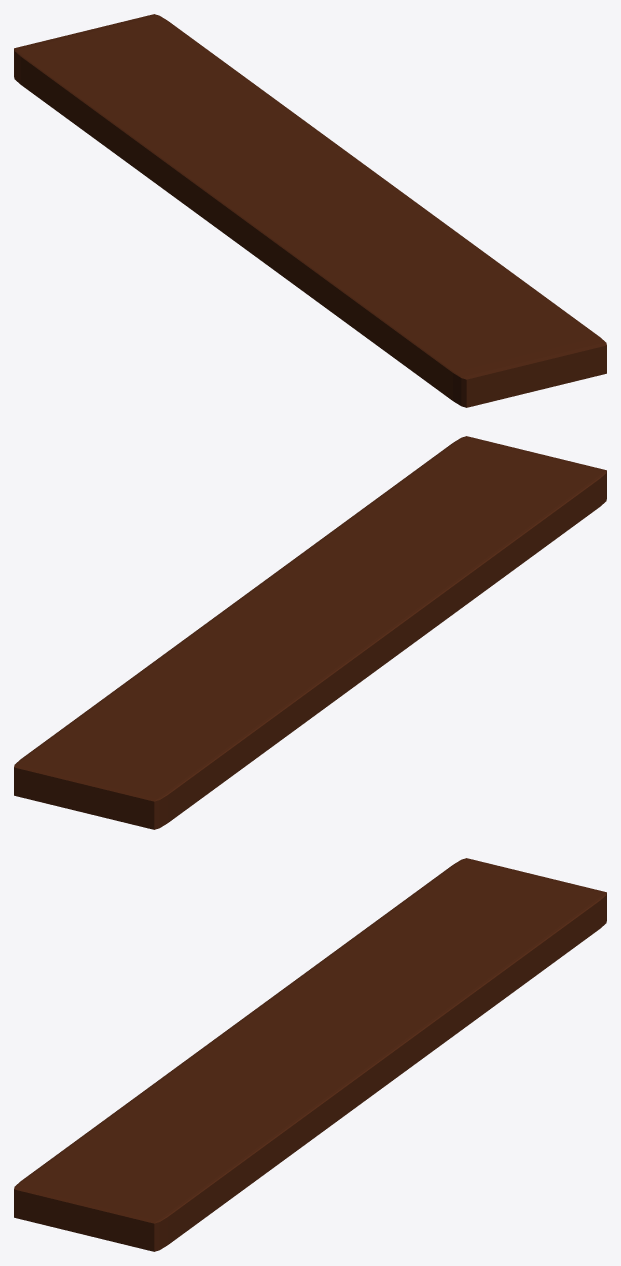
Rendered from Regal.fbx.
3 renders of one model, top to bottom at view 1: azimuth 30°, elevation 25°; view 2: azimuth 150°, elevation 25°; view 3: azimuth 330°, elevation 25°, orthographic.
Visible parts, largest first — view 1: Regal; view 2: Regal; view 3: Regal.
Part boxes in pixels (<box>): Regal: <box>14,14,606,407</box>; Regal: <box>14,436,606,829</box>; Regal: <box>14,858,606,1251</box>.
Size of the model in its own units: 54.05 by 10.4 by 288.
